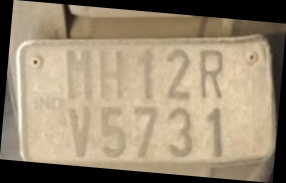character: (99, 105, 125, 161), (198, 48, 225, 101), (166, 106, 192, 159), (164, 48, 190, 99), (133, 105, 156, 161), (204, 104, 223, 159)
